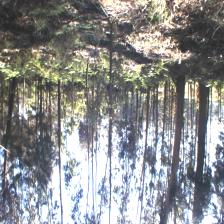trunktrack_idkeyframe: (167, 76, 185, 194), (194, 84, 209, 186), (5, 78, 16, 136), (57, 81, 62, 175), (108, 24, 113, 98), (85, 59, 89, 115)
